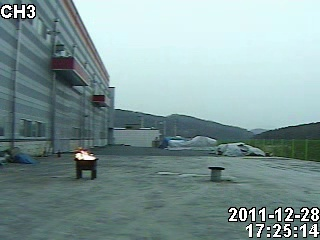fire: (72, 146, 98, 160)
